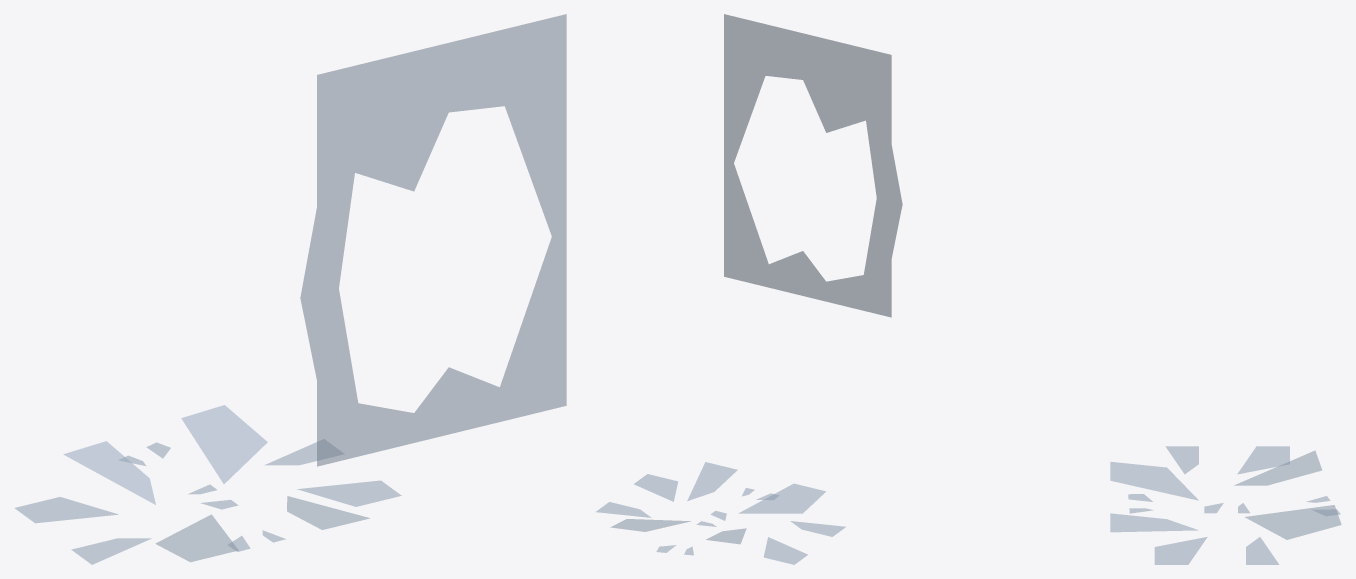
Rendered from Broken Glass.fbx.
3 views of the same model, side by side, from view 1: azimuth 30°, elevation 25°; view 2: azimuth 150°, elevation 25°; view 3: azimuth 270°, elevation 25° (orthographic). The views are drawn at different scales.
Visible parts, largest first — view 1: pasted__pPlane7, group_pasted__pPlane8; view 2: pasted__pPlane7, group_pasted__pPlane8; view 3: group_pasted__pPlane8.
Boxes of the visible parts, box(x1,y1,x2,y2) form: pasted__pPlane7: box(300, 14, 566, 466); group_pasted__pPlane8: box(15, 405, 401, 564); pasted__pPlane7: box(724, 14, 902, 317); group_pasted__pPlane8: box(596, 462, 845, 564); group_pasted__pPlane8: box(1110, 446, 1341, 564).
Size of the model in its own units: 319 by 535 by 430.
